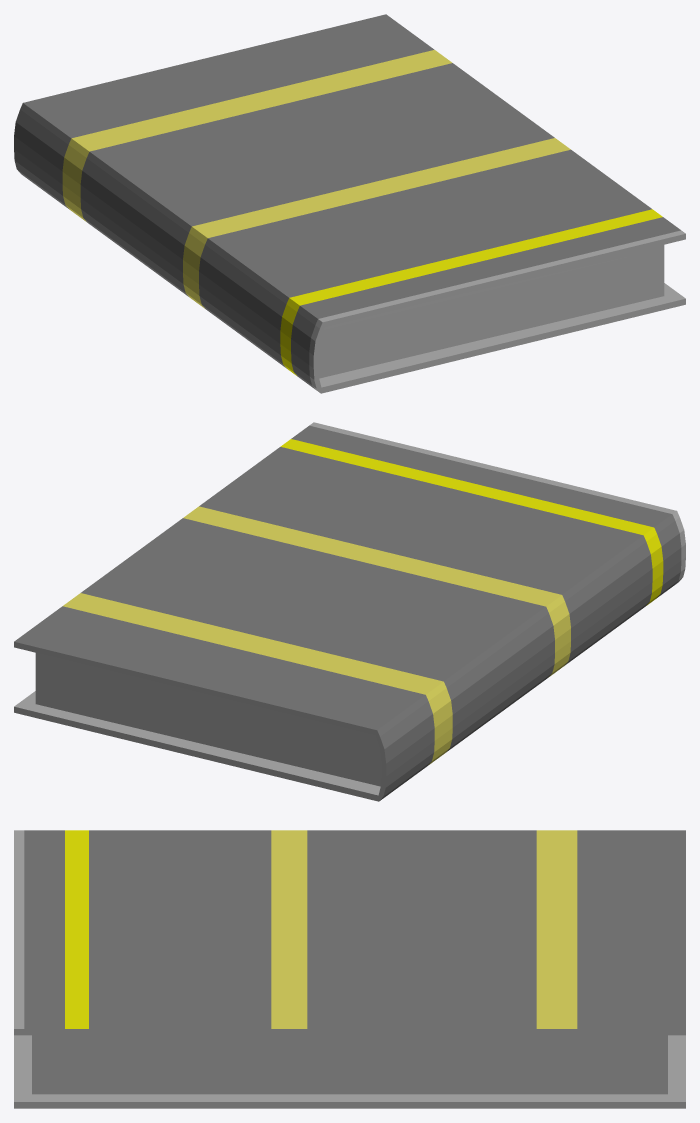
The model's file is Pocketbook.fbx.
3 renders of one model, top to bottom at view 1: azimuth 30°, elevation 25°; view 2: azimuth 150°, elevation 25°; view 3: azimuth 270°, elevation 25°, orthographic. The views are drawn at different scales.
Parts seen in each view (by area): view 1: pCube1; view 2: pCube1; view 3: pCube1.
Boxes of the visible parts, bbox=[...] form: pCube1: bbox=[14, 14, 685, 393]; pCube1: bbox=[14, 422, 685, 801]; pCube1: bbox=[14, 830, 685, 1108].
Bounding box in the file's own units: 1.77 × 0.3225 × 2.47.
